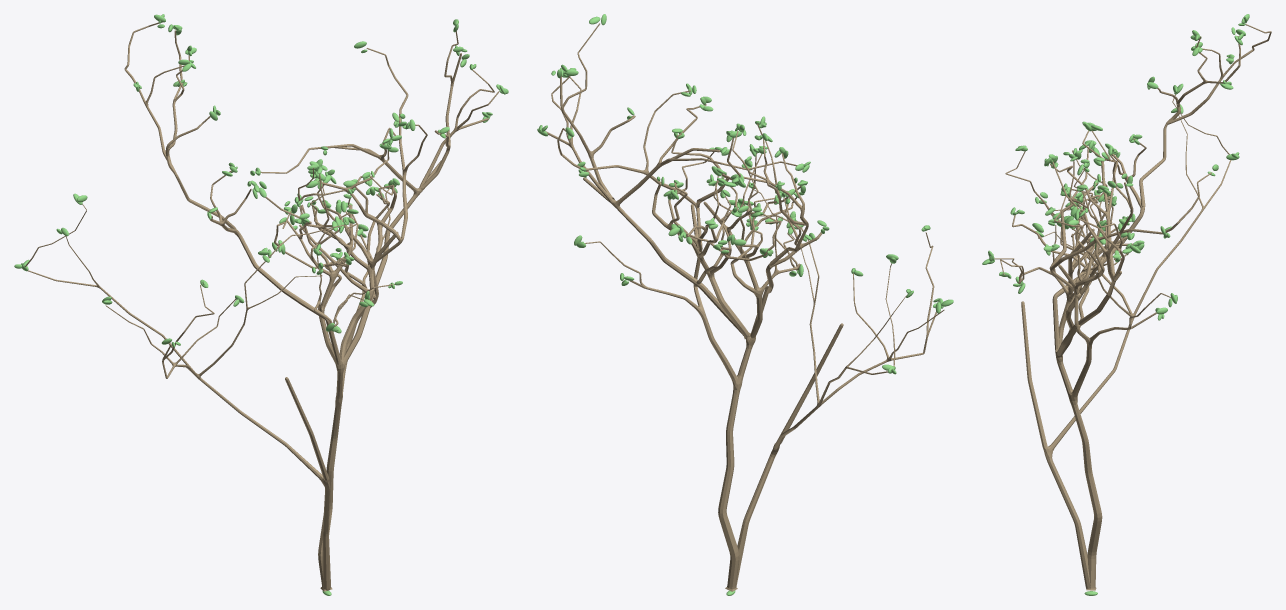
The picture shows the model from 3 angles, left to right: view 1: azimuth 30°, elevation 25°; view 2: azimuth 150°, elevation 25°; view 3: azimuth 270°, elevation 25°; orthographic projection. The views are drawn at different scales.
Parts seen in each view (by area): view 1: Arbusto; view 2: Arbusto; view 3: Arbusto.
Boxes of the visible parts, x1,y1,x2,y2 form: Arbusto: (23, 22, 499, 591); Arbusto: (546, 23, 944, 591); Arbusto: (994, 24, 1271, 590).
Size of the model in its own units: 2.56 by 3.2 by 1.56.
